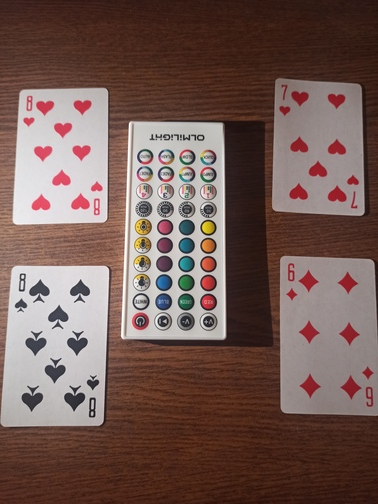eighthearts: (11, 85, 111, 225)
eightspades: (1, 265, 115, 428)
sevenhearts: (272, 73, 369, 217)
sixdiamonds: (276, 254, 378, 428)
